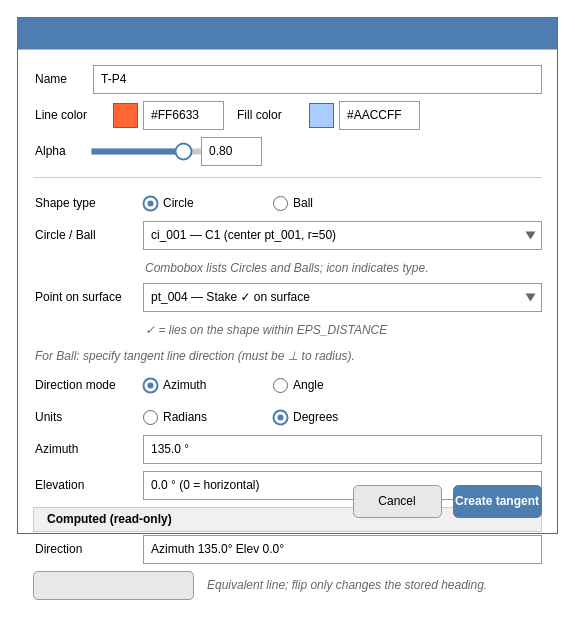
The diagram is 575 pixels wide and 617 high, and some of its shapes have lost their labels. Each missing label, with the centre of its shape:
New Tangent: pixel 287 33
⇄ Flip direction (+180°): pixel 113 585
